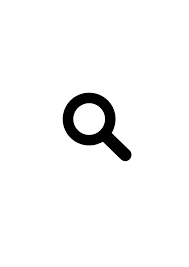searchIcon: (61, 91, 131, 160)
